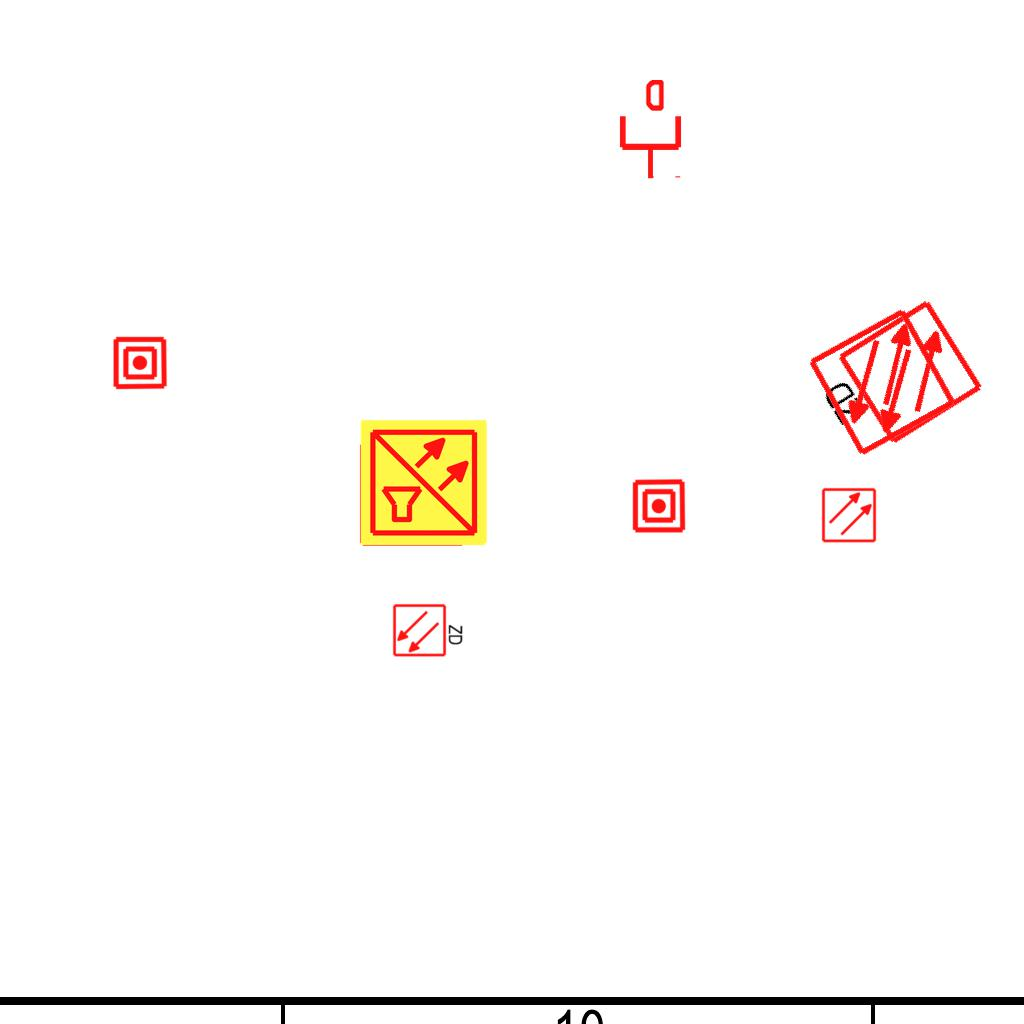Datenanschluss_einfach: (616, 80, 685, 180)
NAM-Nichtautomatischer_Melder: (112, 335, 168, 391), (631, 478, 687, 534)
OKW_Multisensormelder_(Kombination_optischer_Rauch-Kahlenmonoxid_Waerme-Melder): (358, 417, 490, 549)
RMO_Rauchmelder_optischer: (805, 305, 960, 460), (821, 487, 877, 543)
ZD_Melder_in_Zwischendecke_mit_Revisionsoeffnung_mind_40_x_40_cm: (801, 295, 989, 472), (392, 601, 466, 658)
